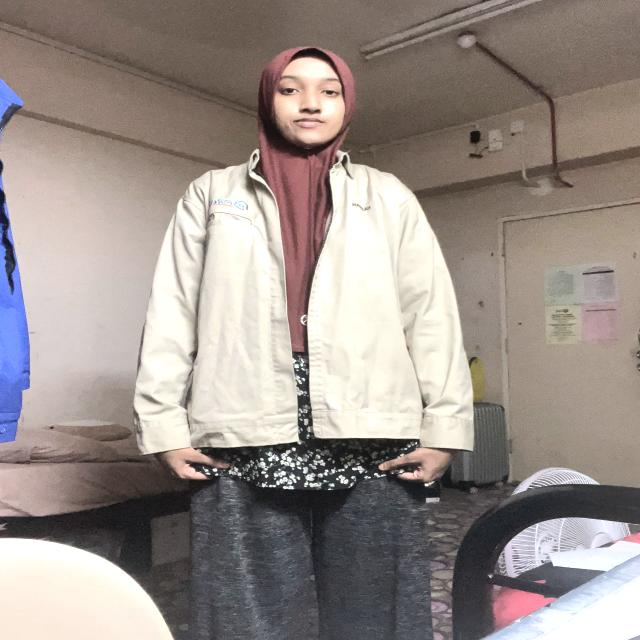person_with_labcoat: (134, 48, 473, 640)
